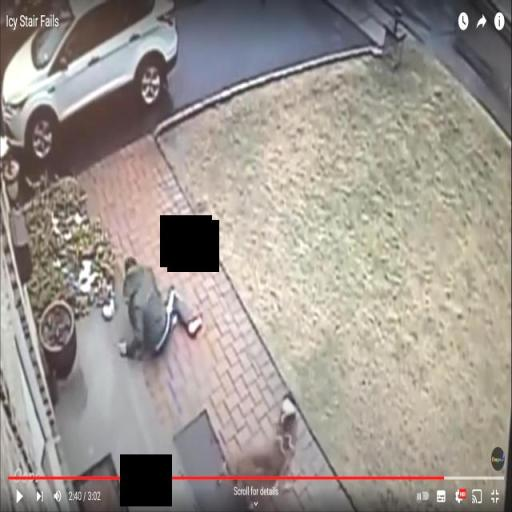Fall: (116, 253, 206, 366)
